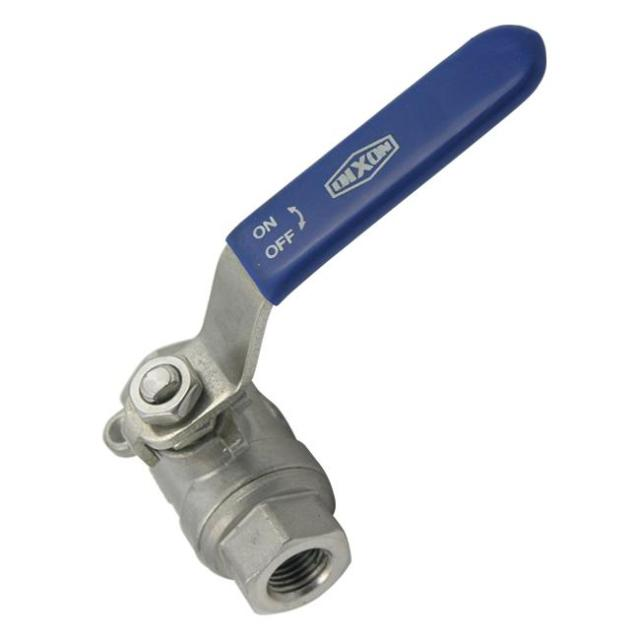closed_valve: (101, 19, 548, 619)
